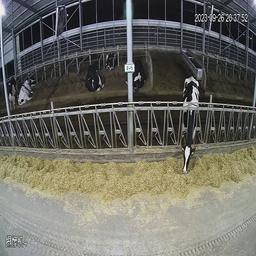cow: (181, 73, 200, 174), (85, 61, 104, 94), (131, 57, 147, 90), (18, 76, 36, 104), (104, 50, 117, 71)
